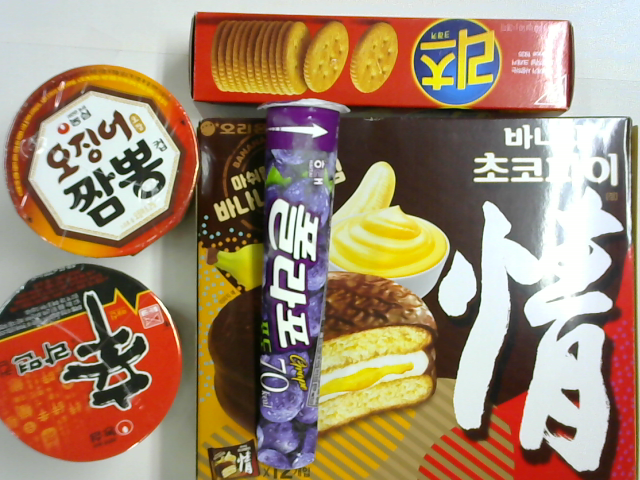Choco_Pie_Banana: (197, 117, 637, 480)
Ojjam: (2, 63, 204, 258)
Polapo_Grape: (259, 96, 347, 467)
Ritz_Cracker: (188, 7, 577, 116)
Sinramen_small: (1, 267, 185, 460)
